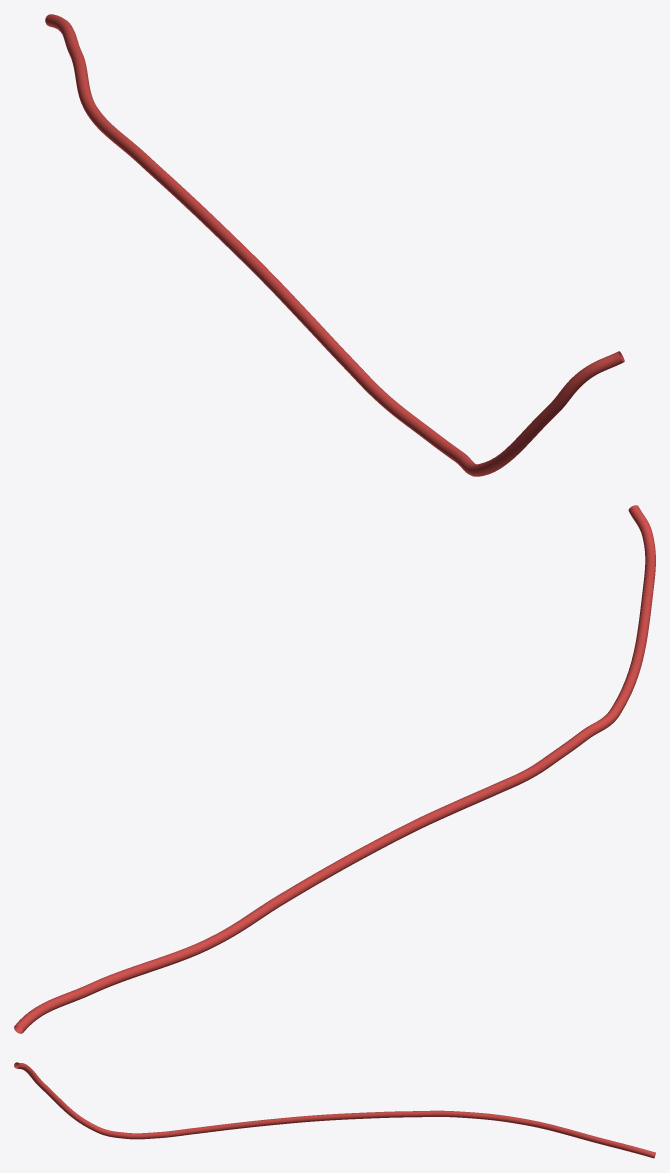
3 views of the same model, one above another, from view 1: azimuth 30°, elevation 25°; view 2: azimuth 150°, elevation 25°; view 3: azimuth 270°, elevation 25° (orthographic). The views are drawn at different scales.
Parts seen in each view (by area): view 1: 右侧胫前动脉; view 2: 右侧胫前动脉; view 3: 右侧胫前动脉.
Boxes of the visible parts, box(x1,y1,x2,y2) form: 右侧胫前动脉: box(45, 14, 624, 476); 右侧胫前动脉: box(14, 505, 655, 1033); 右侧胫前动脉: box(14, 1062, 655, 1158).
Size of the model in its own units: 0.0561 by 0.0686 by 0.4474.
